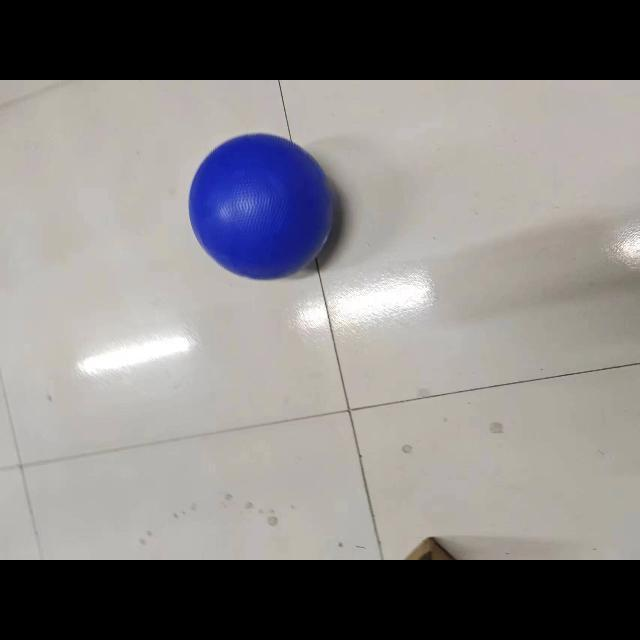B: (181, 128, 341, 282)
